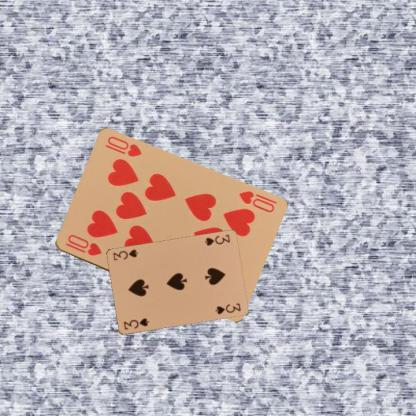10h: (235, 188, 276, 214), (63, 232, 103, 258)
3s: (121, 316, 150, 331), (202, 232, 231, 247)
